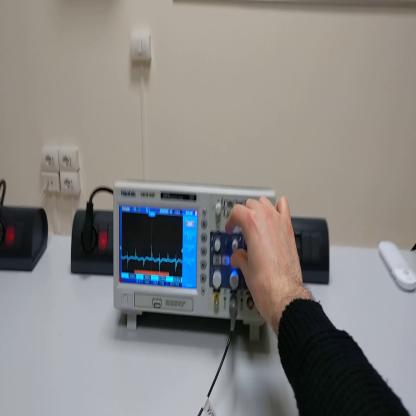hand: (226, 193, 306, 326)
oscilloscope: (113, 174, 278, 340)
socket: (1, 206, 50, 273), (71, 208, 114, 277)
